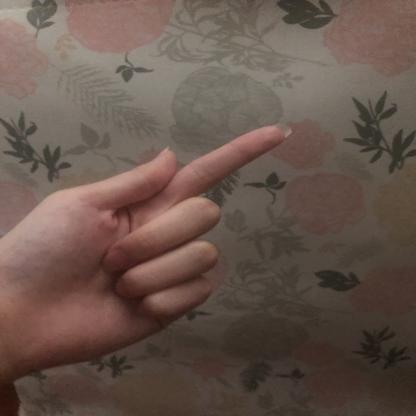finger_point: (146, 118, 297, 205)
